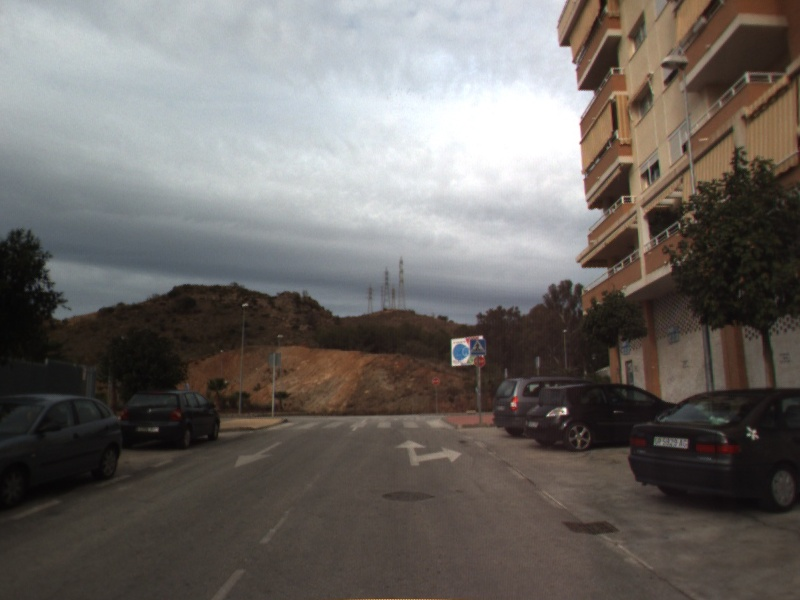STRAIGHT_RIGHT: (393, 437, 464, 467)
